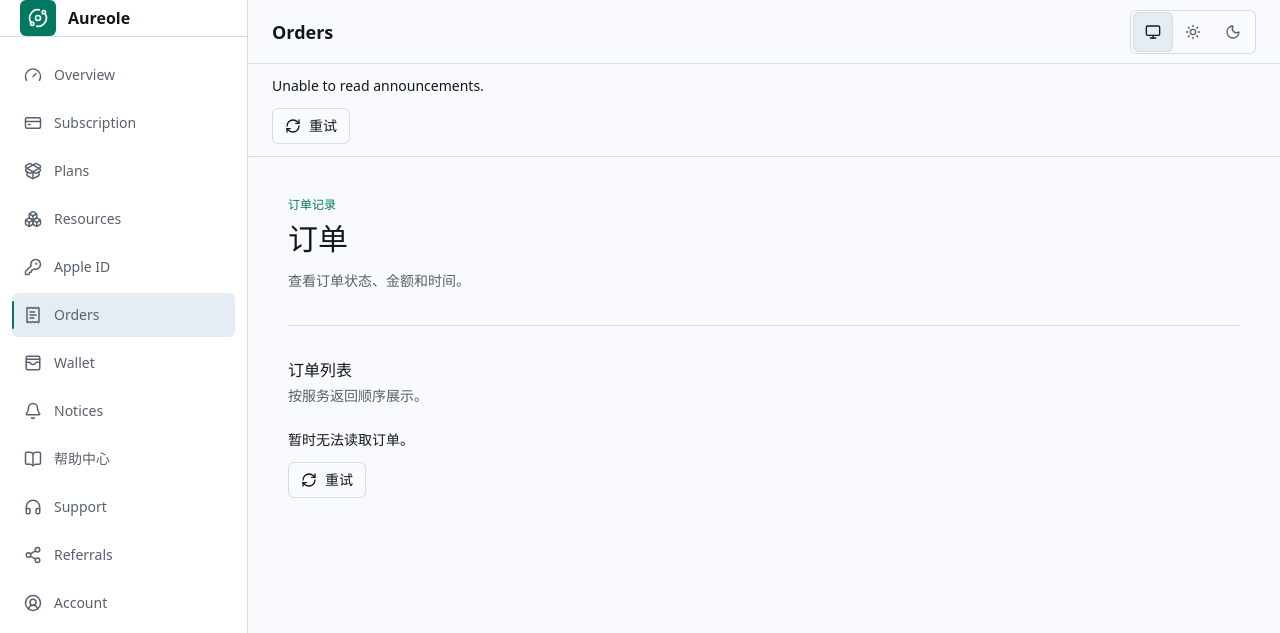
Scenario: Orders page › retries an ordinary list error
Expected: the text "暂时无法读取订单。" is shown, [288,430,414,449]
Click the button "重试" below "暂时无法读取订单。": click(327, 480) [288,462,366,498]
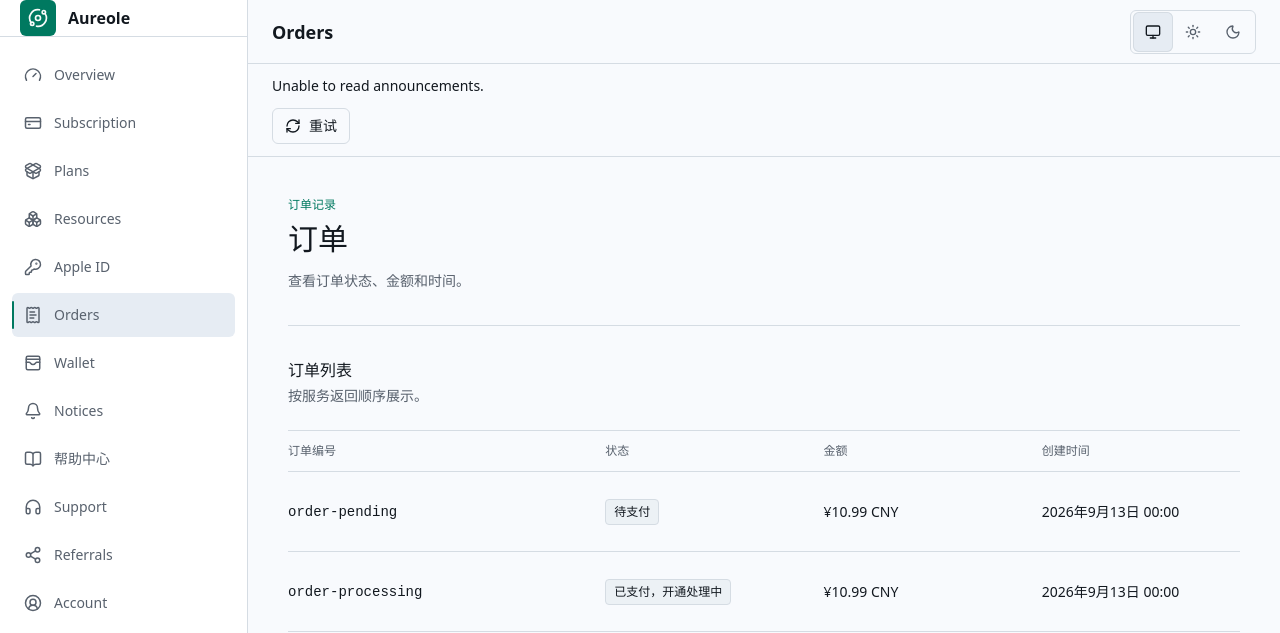
Result: the text "order-pending" is shown at [288,504,397,520]
